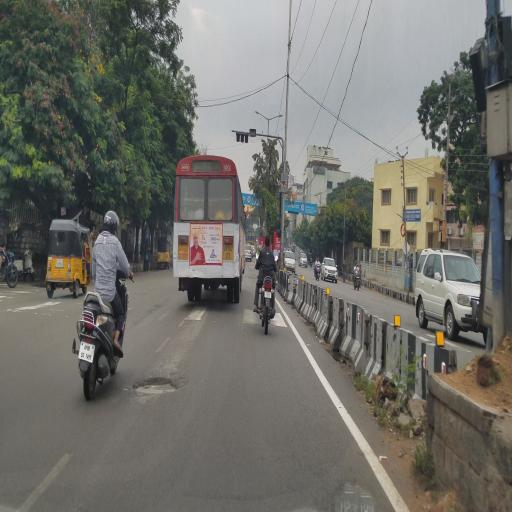street_light_0: (249, 102, 268, 136), (268, 106, 284, 132)
